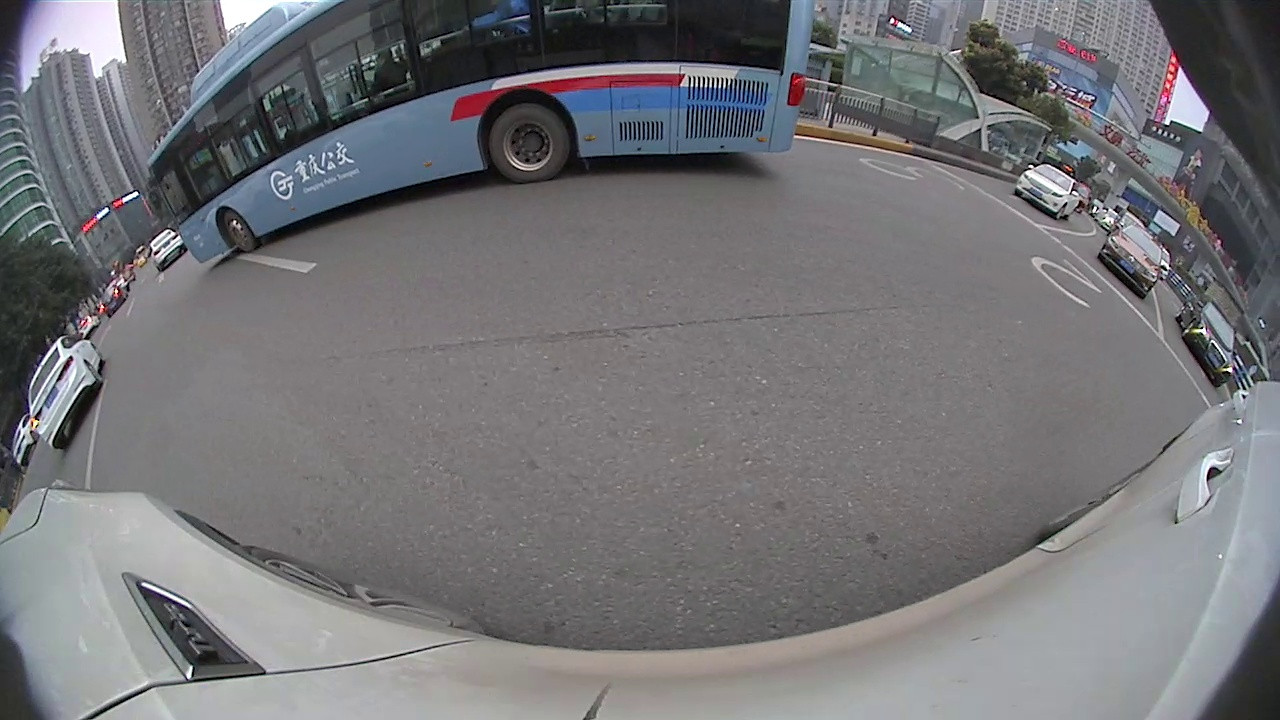bus: (145, 1, 813, 265)
car: (26, 332, 108, 456), (1094, 218, 1167, 302), (1177, 296, 1238, 391), (1012, 163, 1084, 223), (148, 227, 188, 273), (11, 410, 38, 469), (100, 285, 128, 316)
front: (217, 213, 261, 253), (1174, 316, 1200, 339), (1051, 202, 1070, 224)
rear: (485, 108, 573, 187), (83, 360, 115, 386)
